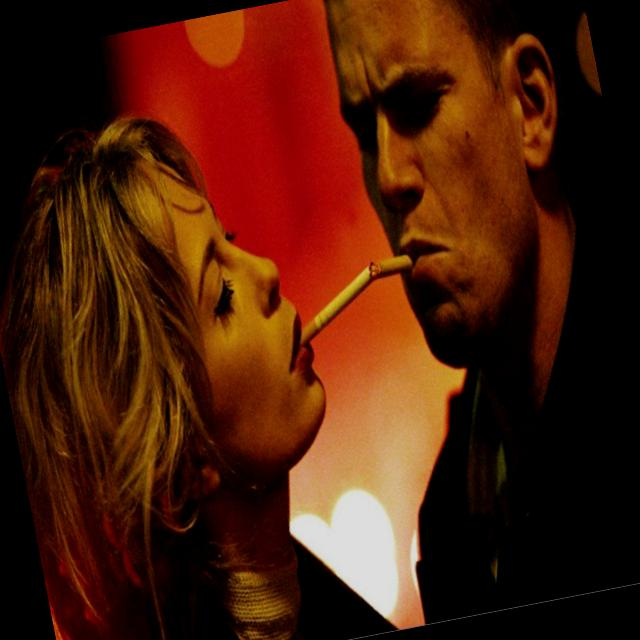cigarette: (268, 262, 374, 347), (345, 225, 436, 292)
